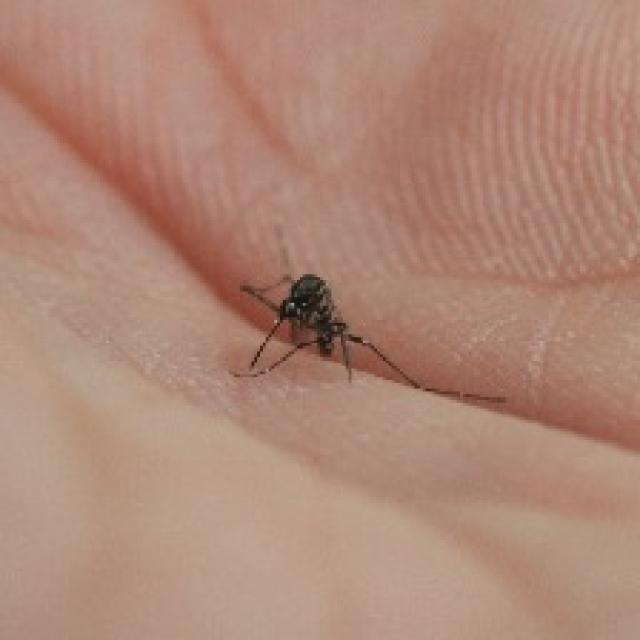aedes: (225, 268, 506, 406)
